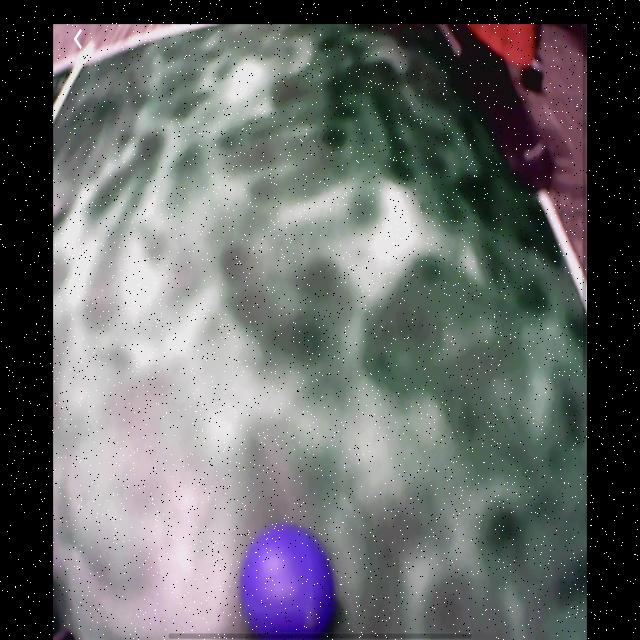ball: (243, 522, 338, 640)
